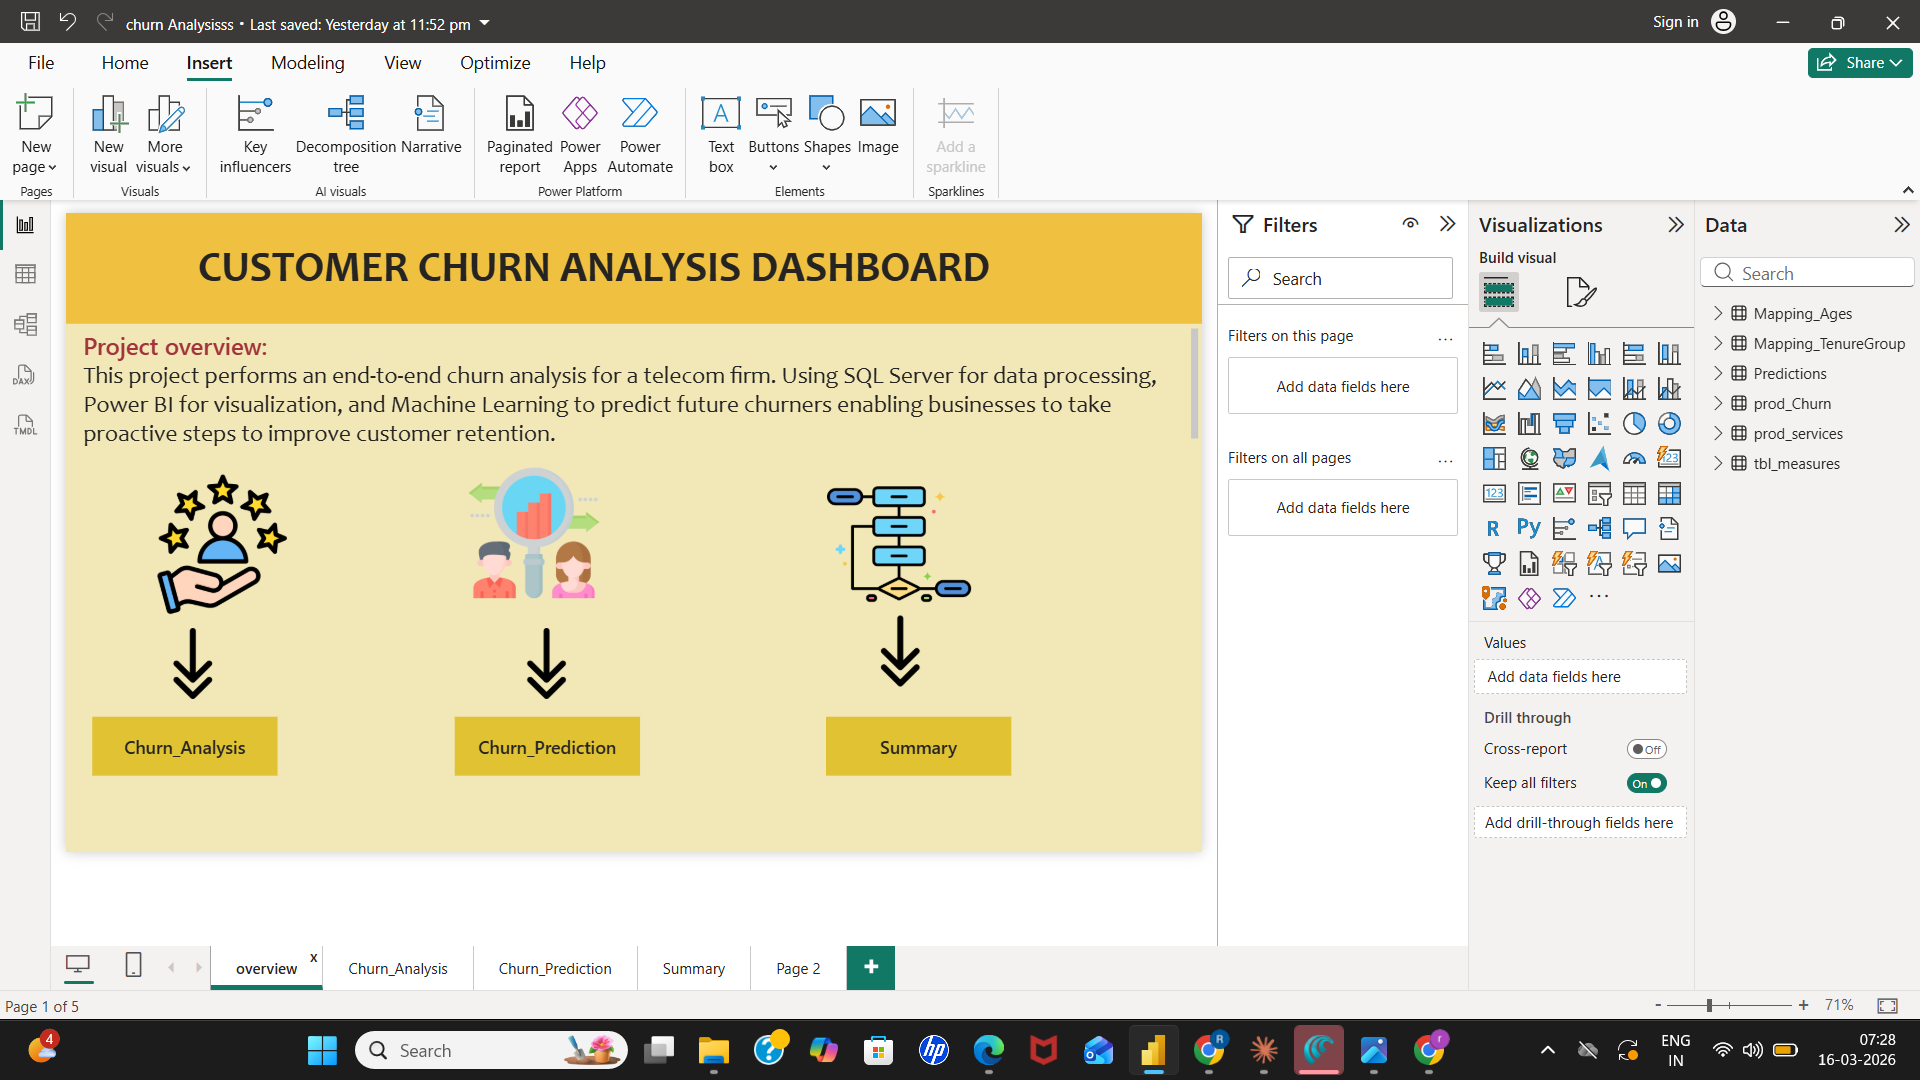

The dashboard page shown, as its layout file describes it:
{"tool":"powerbi","page":{"name":"overview","canvas":[1280,720],"ordinal":0},"visuals":[{"type":"shape","box":[0,0,1280.3,124.9],"z":0},{"type":"textbox","box":[144.1,27.4,989.4,71.4],"z":1000},{"type":"textbox","box":[13.7,124.9,1266.6,146.8],"z":2000},{"type":"image","box":[0,294.4,352.1,157.7],"z":3000},{"type":"image","box":[352.1,284.5,350.7,152.1],"z":4000},{"type":"image","box":[81.7,467.6,122.5,80.3],"z":5000},{"type":"image","box":[480.3,467.6,122.5,80.3],"z":6000},{"type":"image","box":[777.5,290.1,322.5,162],"z":7000},{"type":"image","box":[878.9,453.5,122.5,80.3],"z":8000},{"type":"actionButton","box":[29.6,567.6,208.5,66.2],"z":9000},{"type":"actionButton","box":[438,567.6,208.5,66.2],"z":9001},{"type":"actionButton","box":[856.3,567.6,208.5,66.2],"z":9002}]}

Visuals, with their boxes on the page's 1280x720 design canvas (x1, y1, x2, y2). These are canvas units, not pixel positions in the 1920x1080 screenshot, which may show the page scaled, cropped or inside an application window:
shape: box=[0, 0, 1280, 125]
textbox: box=[144, 27, 1134, 99]
textbox: box=[14, 125, 1280, 272]
image: box=[0, 294, 352, 452]
image: box=[352, 284, 703, 437]
image: box=[82, 468, 204, 548]
image: box=[480, 468, 603, 548]
image: box=[778, 290, 1100, 452]
image: box=[879, 454, 1001, 534]
actionButton: box=[30, 568, 238, 634]
actionButton: box=[438, 568, 646, 634]
actionButton: box=[856, 568, 1065, 634]
